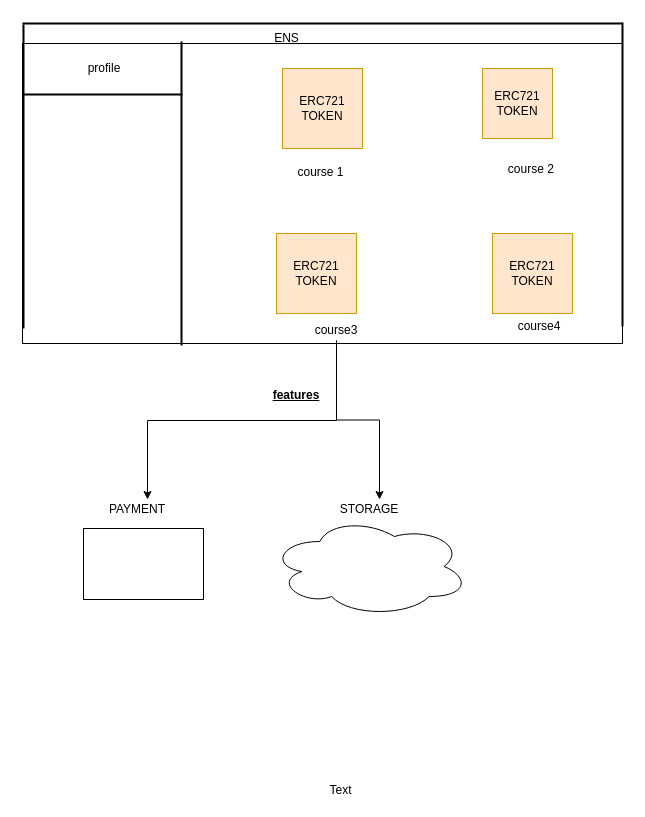
The diagram is 645 pixels wide and 817 high, and some of its shapes have lost their labels. Each missing label, with the centre of its shape:
"we can integrate our dapp with matic for faster transaction and low fee" belongs at (143,564).
"we will use filecoin to store data of the course and map it to the token" belongs at (369,566).
